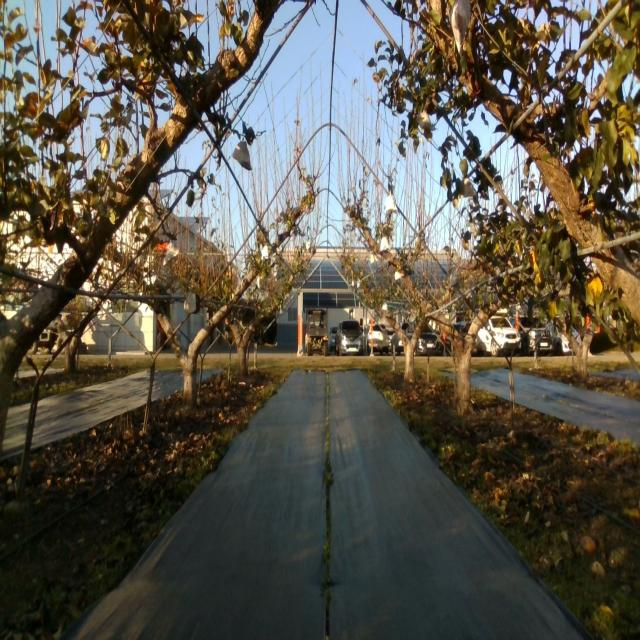pearbags: (450, 0, 472, 55), (232, 138, 252, 171), (163, 240, 179, 266), (460, 178, 477, 199)
